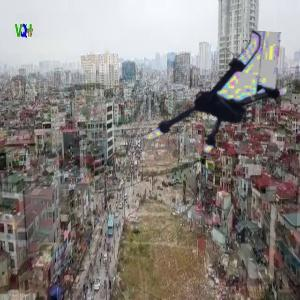drone: (140, 29, 288, 177)
